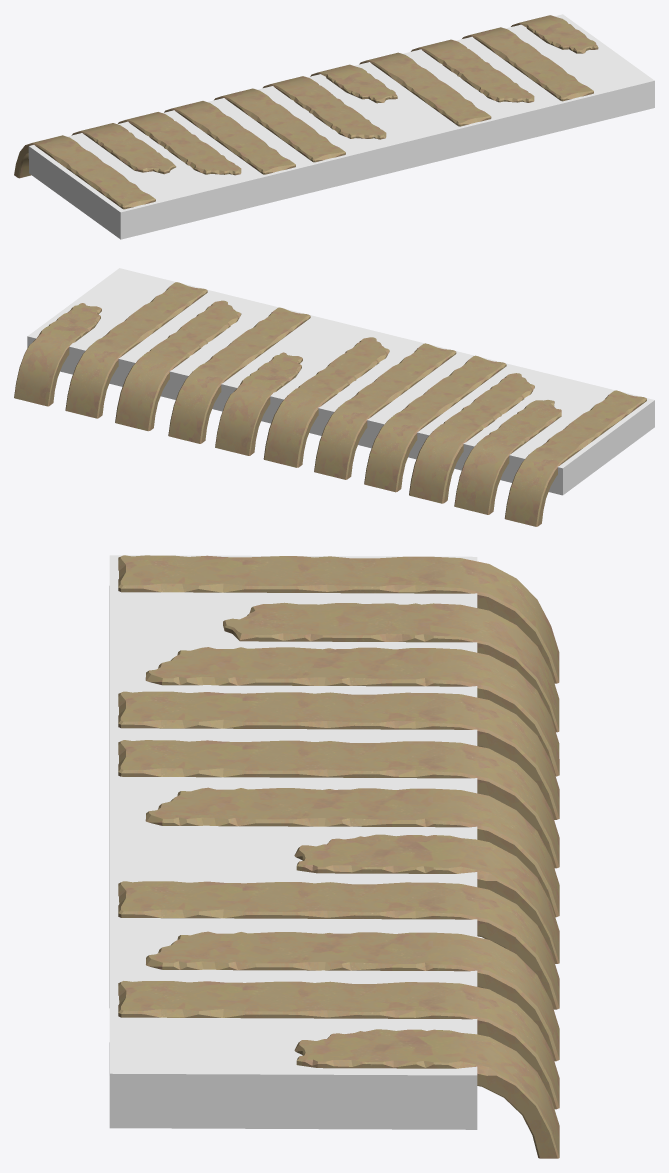
The model's file is Structure_NOM_StairWalkway.fbx.
3 views of the same model, one above another, from view 1: azimuth 30°, elevation 25°; view 2: azimuth 150°, elevation 25°; view 3: azimuth 270°, elevation 25° (orthographic). The views are drawn at different scales.
Visible parts, largest first — view 1: Structure_NOM_StairWalkway_COL, Structure_NOM_StairWalkway; view 2: Structure_NOM_StairWalkway, Structure_NOM_StairWalkway_COL; view 3: Structure_NOM_StairWalkway, Structure_NOM_StairWalkway_COL.
Part boxes in pixels (<box>): Structure_NOM_StairWalkway_COL: <box>28,14,654,239</box>; Structure_NOM_StairWalkway: <box>14,15,598,209</box>; Structure_NOM_StairWalkway: <box>14,282,646,526</box>; Structure_NOM_StairWalkway_COL: <box>27,268,654,495</box>; Structure_NOM_StairWalkway: <box>118,555,559,1158</box>; Structure_NOM_StairWalkway_COL: <box>109,555,477,1129</box>.
Size of the model in its own units: 587 by 52.33 by 214.
